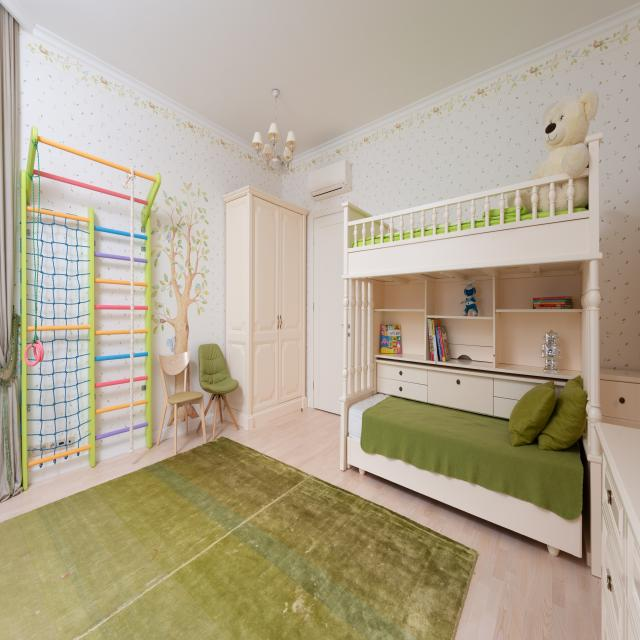floor: (206, 407, 602, 640), (0, 436, 174, 524), (177, 427, 204, 453)
wall: (282, 15, 640, 408), (13, 24, 283, 444), (40, 176, 131, 233), (37, 141, 131, 196), (95, 431, 130, 463), (95, 407, 130, 436), (94, 382, 130, 410), (94, 230, 131, 257), (94, 256, 131, 281), (95, 358, 130, 384), (95, 334, 131, 357), (94, 283, 131, 305), (94, 310, 131, 331), (133, 175, 153, 201), (134, 202, 145, 235), (133, 426, 147, 451), (133, 380, 145, 403), (133, 404, 145, 426), (133, 356, 145, 378), (134, 238, 145, 259), (134, 309, 145, 330), (134, 262, 145, 282), (134, 286, 145, 306), (134, 333, 145, 353), (33, 177, 39, 208), (34, 149, 39, 170)
